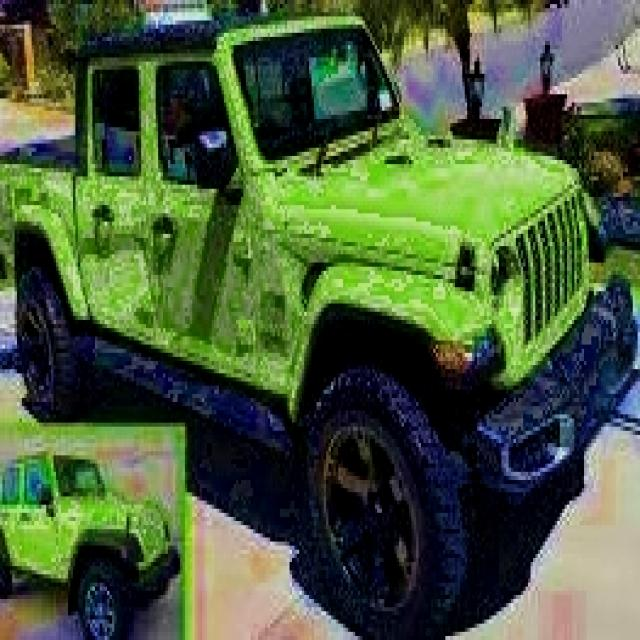green: (0, 12, 628, 640), (0, 451, 168, 636)
